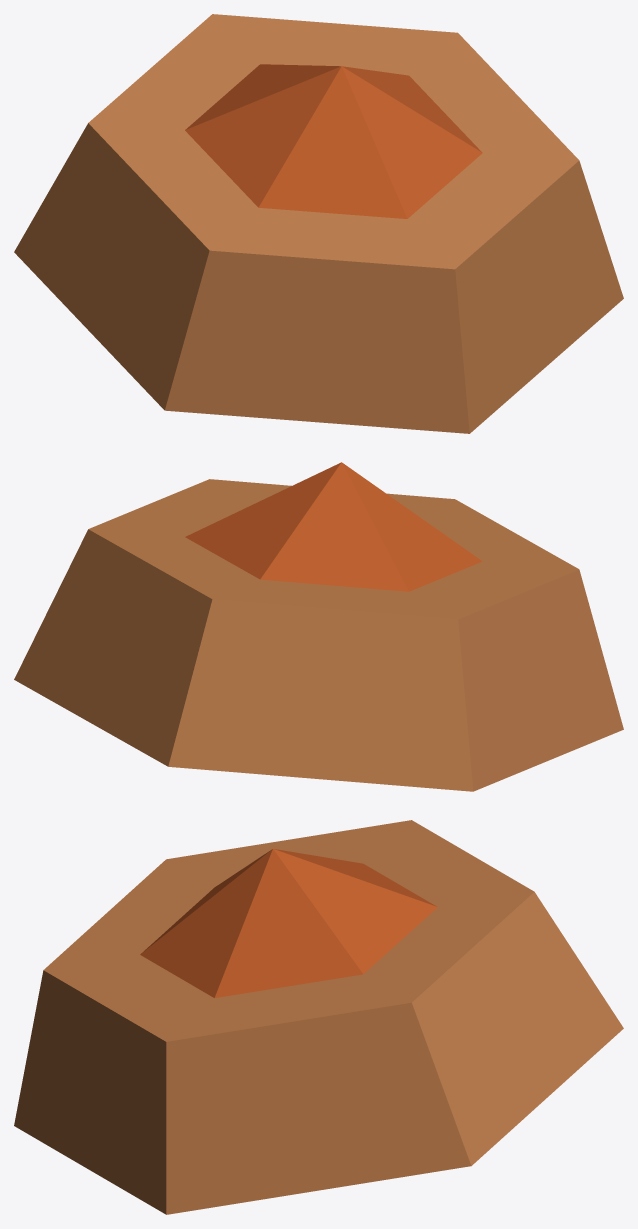
File: Poleyn 03.FBX
The picture shows the model from 3 angles, top to bottom: view 1: azimuth 30°, elevation 25°; view 2: azimuth 150°, elevation 25°; view 3: azimuth 270°, elevation 25°; orthographic projection.
Parts seen in each view (by area): view 1: Poleyn 03; view 2: Poleyn 03; view 3: Poleyn 03.
Part boxes in pixels (x1=…): Poleyn 03: x1=14, y1=14, x2=623, y2=433; Poleyn 03: x1=14, y1=462, x2=623, y2=791; Poleyn 03: x1=14, y1=820, x2=623, y2=1214.
Size of the model in its own units: 11.85 by 6.76 by 13.48.
1 material, 1 textured.
